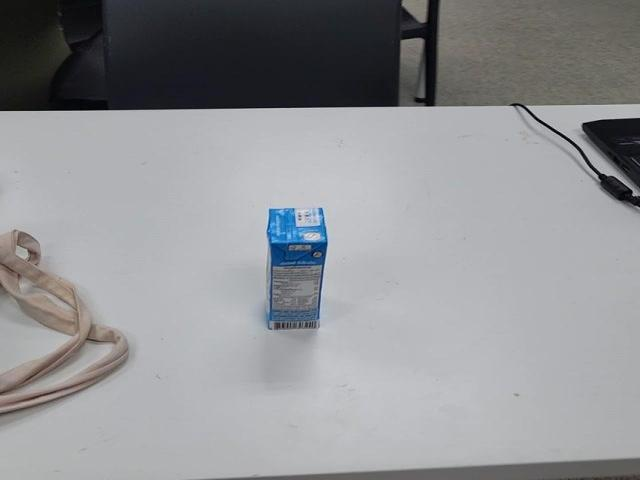drink_box: (253, 198, 336, 342)
